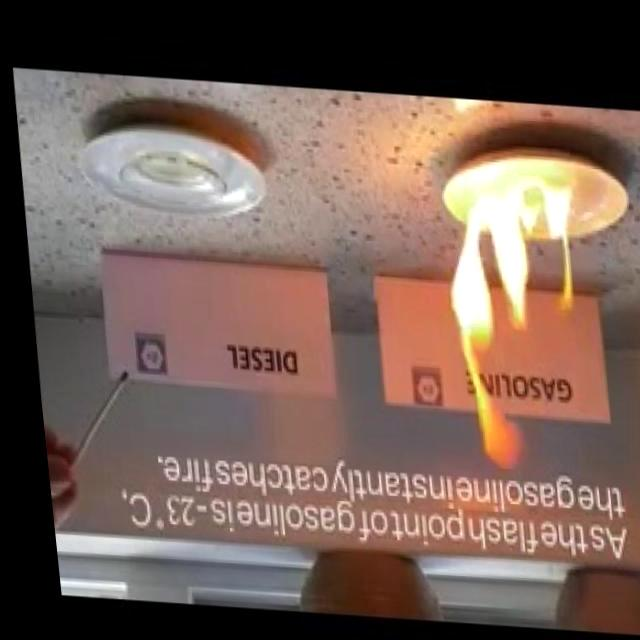fire: (412, 156, 584, 388)
